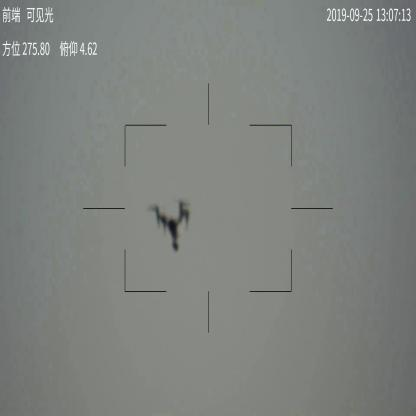uav: (152, 197, 192, 253)
